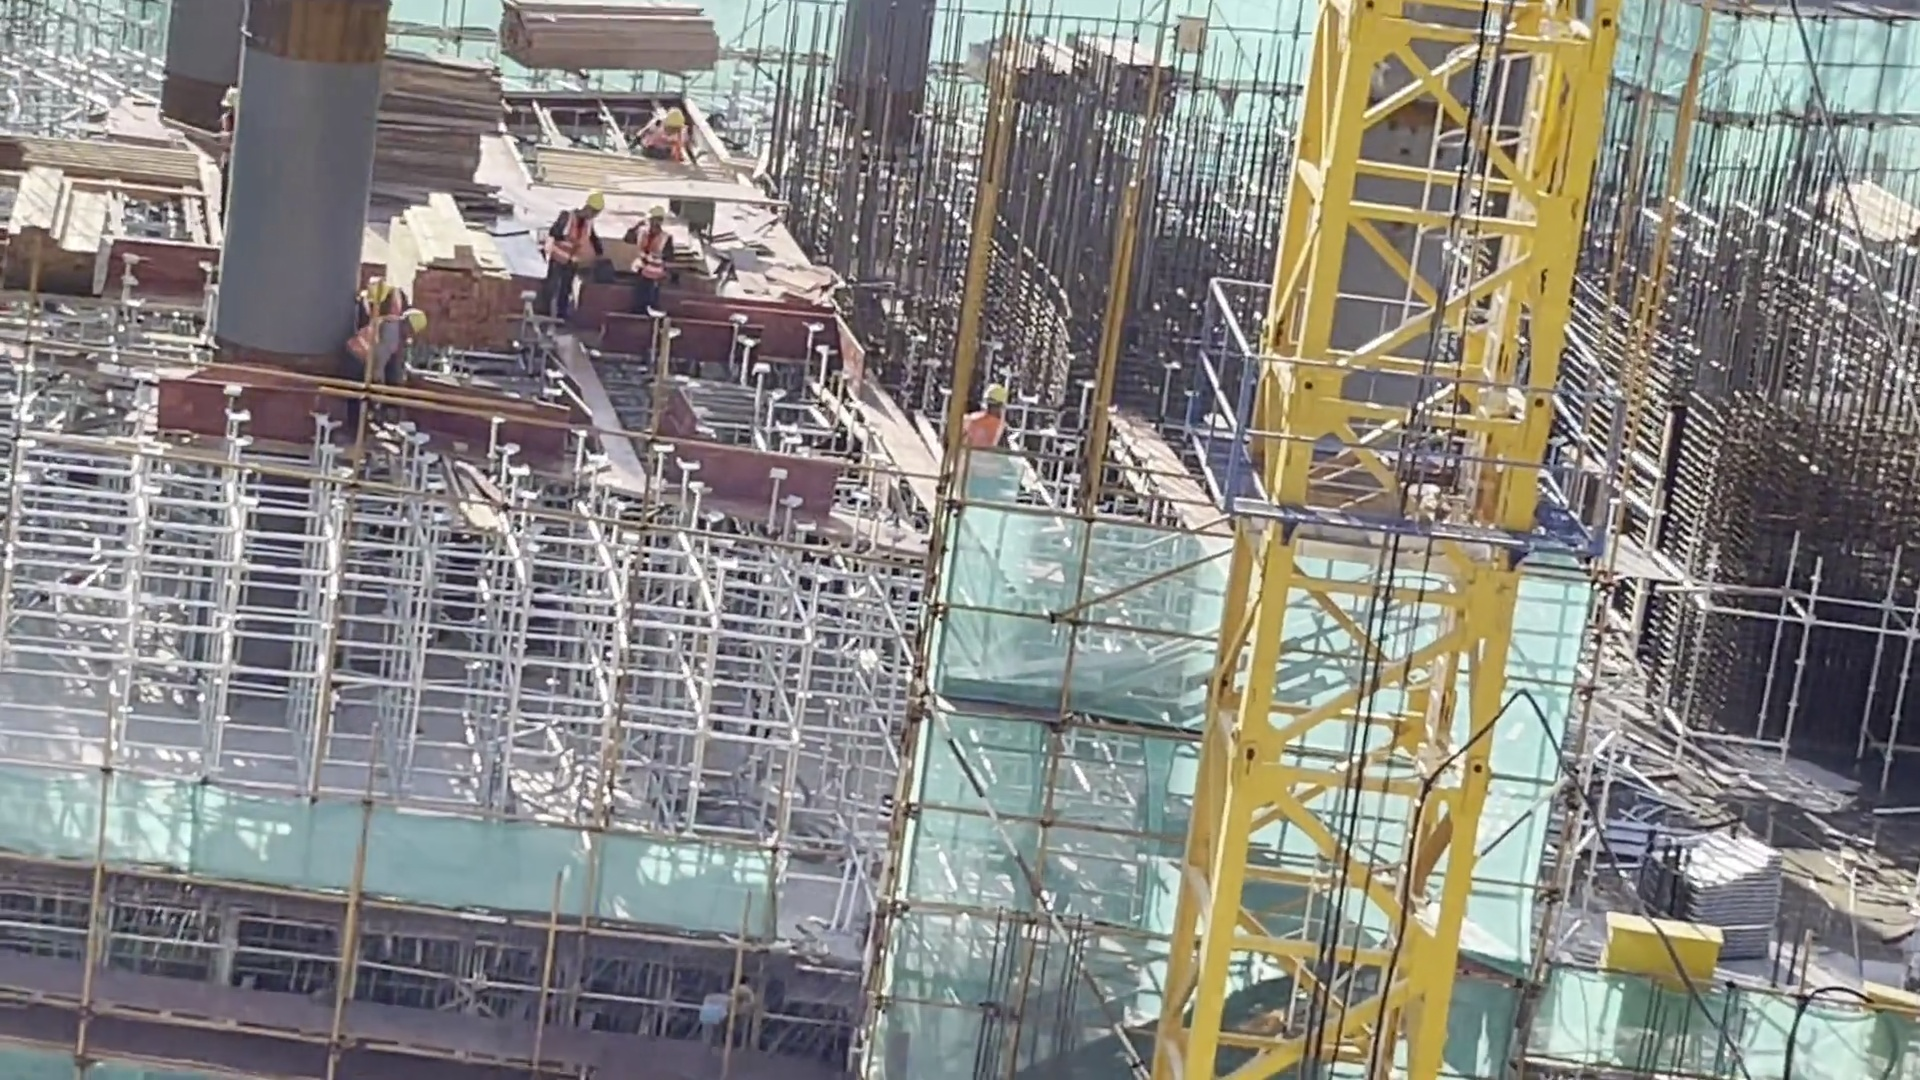cutter: (607, 174, 780, 233)
ebox: (1600, 907, 1725, 996), (1862, 974, 1920, 1080)
helmet: (646, 200, 673, 230), (660, 105, 683, 133), (987, 381, 1010, 408), (404, 309, 427, 334), (581, 192, 608, 211)
person: (542, 184, 606, 330), (344, 312, 432, 387), (631, 203, 673, 321), (631, 107, 692, 165), (963, 383, 1011, 451), (351, 273, 406, 332)
scaffold: (1635, 830, 1789, 954)
vest: (633, 232, 679, 291), (549, 217, 593, 273), (962, 412, 1002, 451)
wood: (386, 198, 513, 371), (379, 50, 514, 209), (485, 1, 727, 79), (1, 164, 110, 306)
